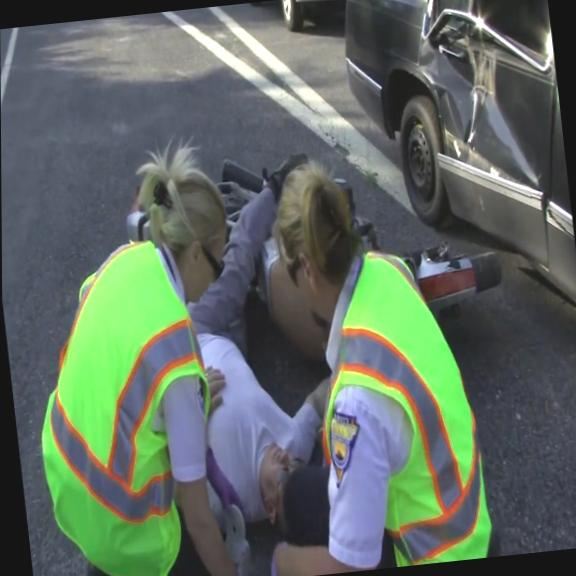safety_vest: (19, 224, 229, 576), (301, 241, 497, 573)
